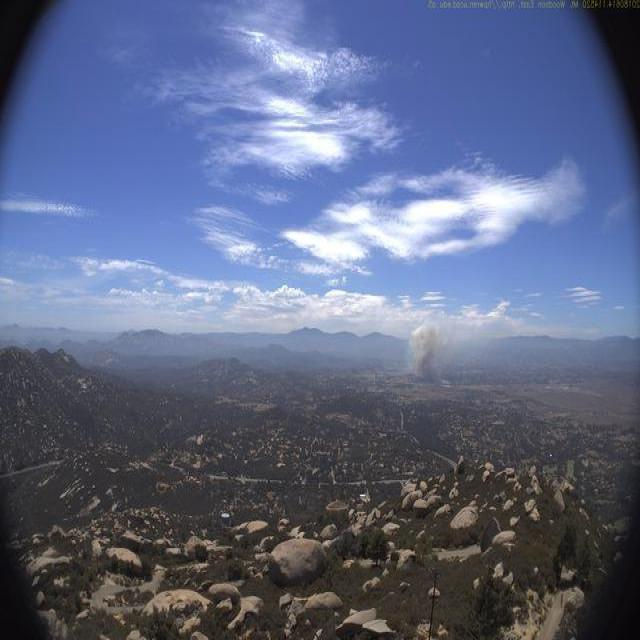smoke: (402, 314, 449, 394)
